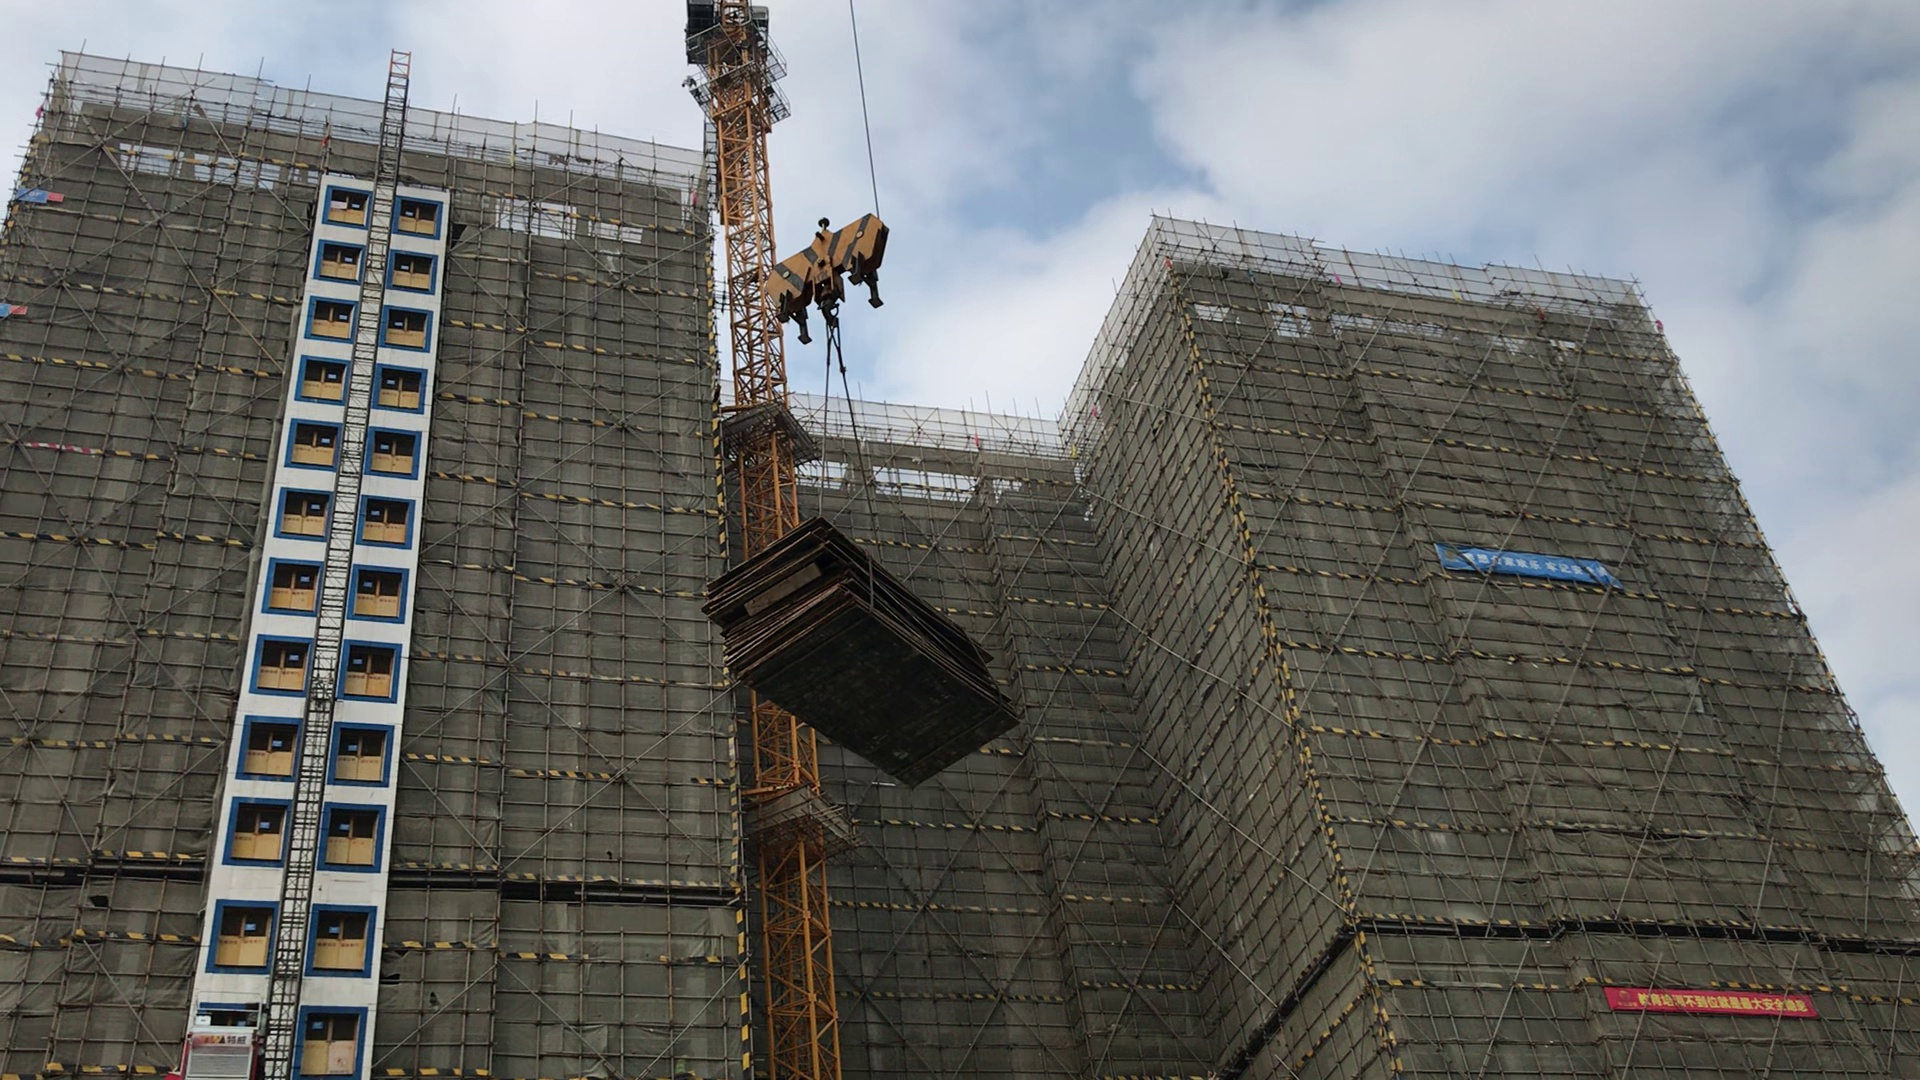board: (700, 517, 1025, 789)
hook: (767, 215, 895, 345)
slogan: (1429, 535, 1615, 585), (1604, 984, 1817, 1015)
